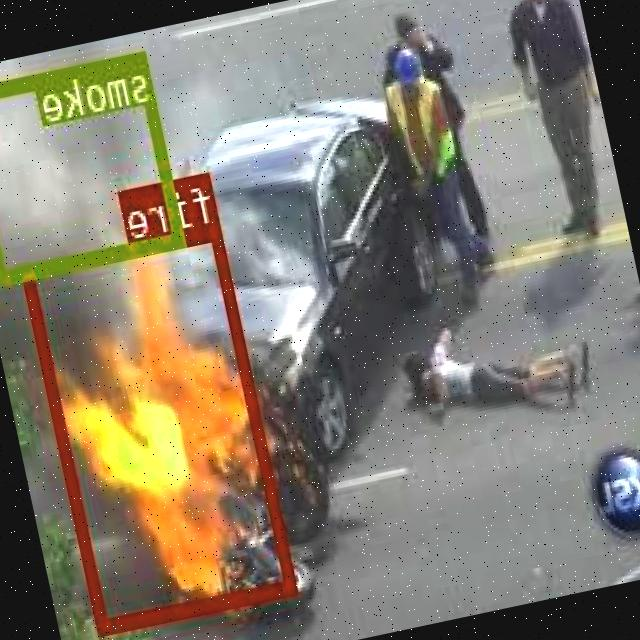fire: (22, 222, 299, 633)
smoke: (0, 49, 187, 283)
